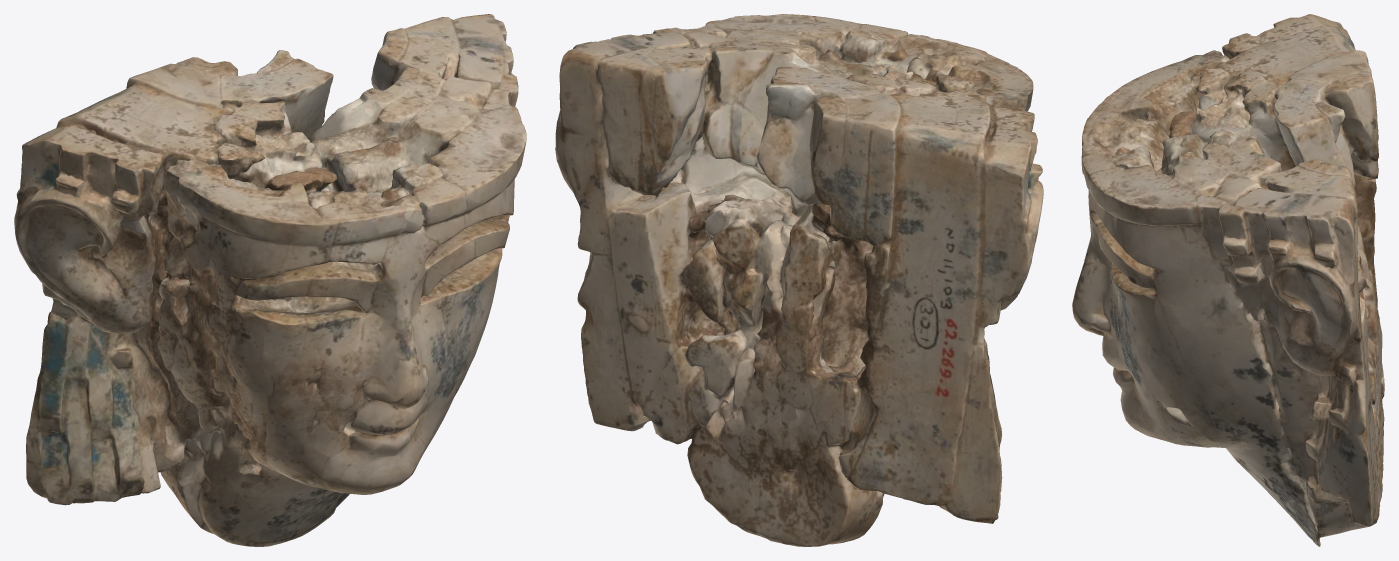
The model's file is preview.glb.
3 views of the same model, side by side, from view 1: azimuth 30°, elevation 25°; view 2: azimuth 150°, elevation 25°; view 3: azimuth 270°, elevation 25° (orthographic). The views are drawn at different scales.
Visible parts, largest first — view 1: _D_42029_001_3D_42029_001_u1_v1_n3d; view 2: _D_42029_001_3D_42029_001_u1_v1_n3d; view 3: _D_42029_001_3D_42029_001_u1_v1_n3d.
Part boxes in pixels (x1,y1,x2,y2): _D_42029_001_3D_42029_001_u1_v1_n3d: [14, 14, 526, 546]; _D_42029_001_3D_42029_001_u1_v1_n3d: [555, 14, 1043, 546]; _D_42029_001_3D_42029_001_u1_v1_n3d: [1072, 14, 1384, 546].
Bounding box in the file's own units: 0.0936 × 0.0867 × 0.0569.
Materials: 1 (1 with a texture image).
